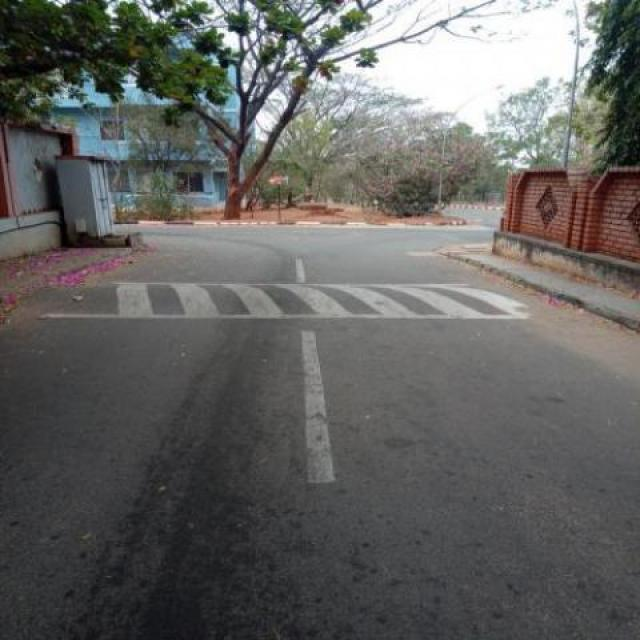Speed Bump: (27, 280, 540, 318)
